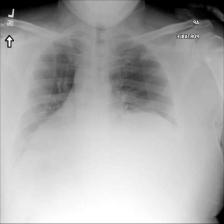normal: (15, 29, 180, 139)
